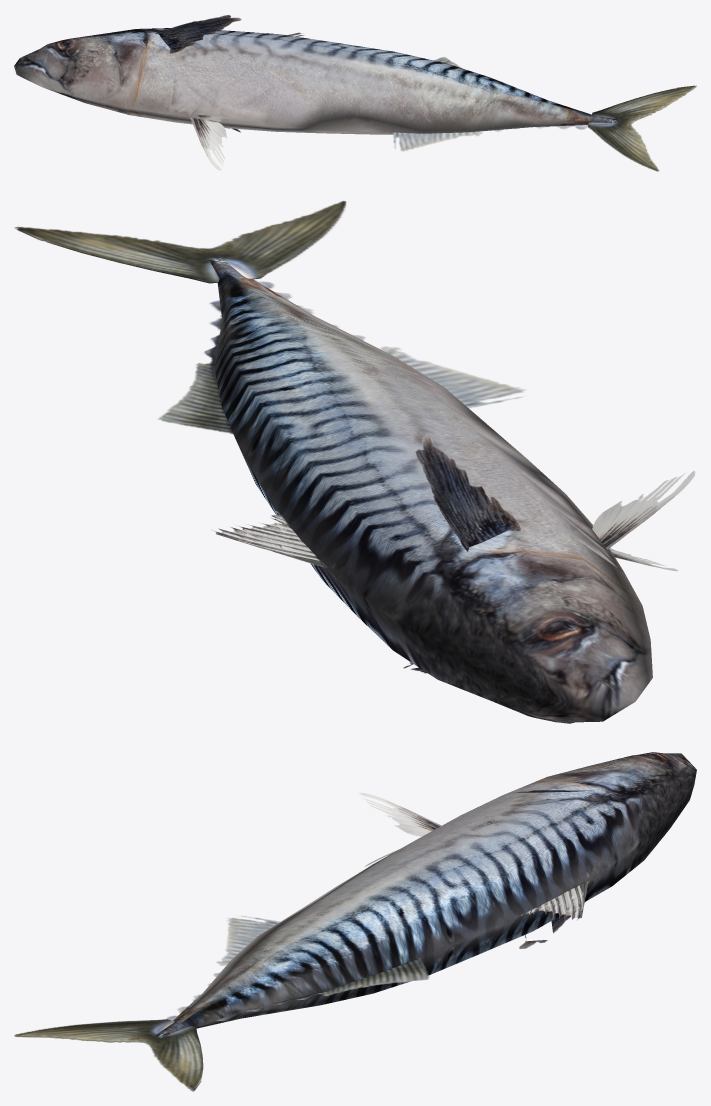
File: Fish.glb
3 renders of one model, top to bottom at view 1: azimuth 30°, elevation 25°; view 2: azimuth 150°, elevation 25°; view 3: azimuth 270°, elevation 25°, orthographic. The views are drawn at different scales.
Visible parts, largest first — view 1: Mackerel.001; view 2: Mackerel.001; view 3: Mackerel.001.
Boxes of the visible parts, x1=… form: Mackerel.001: x1=14, y1=15, x2=696, y2=171; Mackerel.001: x1=14, y1=201, x2=695, y2=723; Mackerel.001: x1=14, y1=752, x2=696, y2=1091.
Bounding box in the file's own units: 0.4658 × 0.106 × 0.4124.
2 materials, 2 textured.
